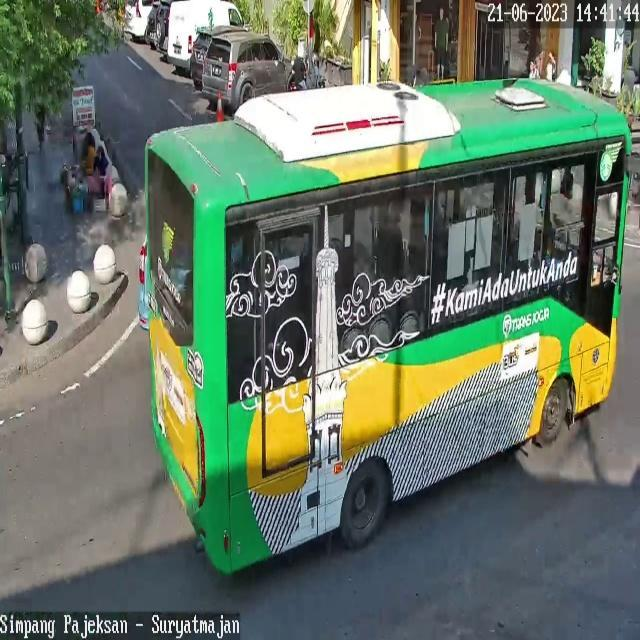Bus: (137, 75, 632, 576)
